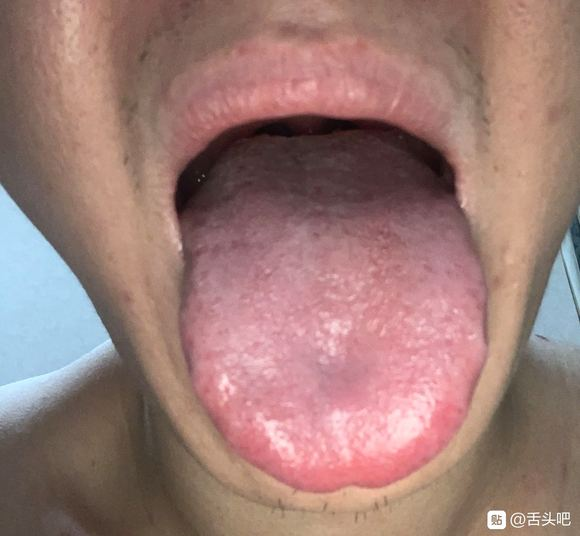baitaishe: (178, 130, 489, 491)
hongshe: (178, 130, 489, 491)
